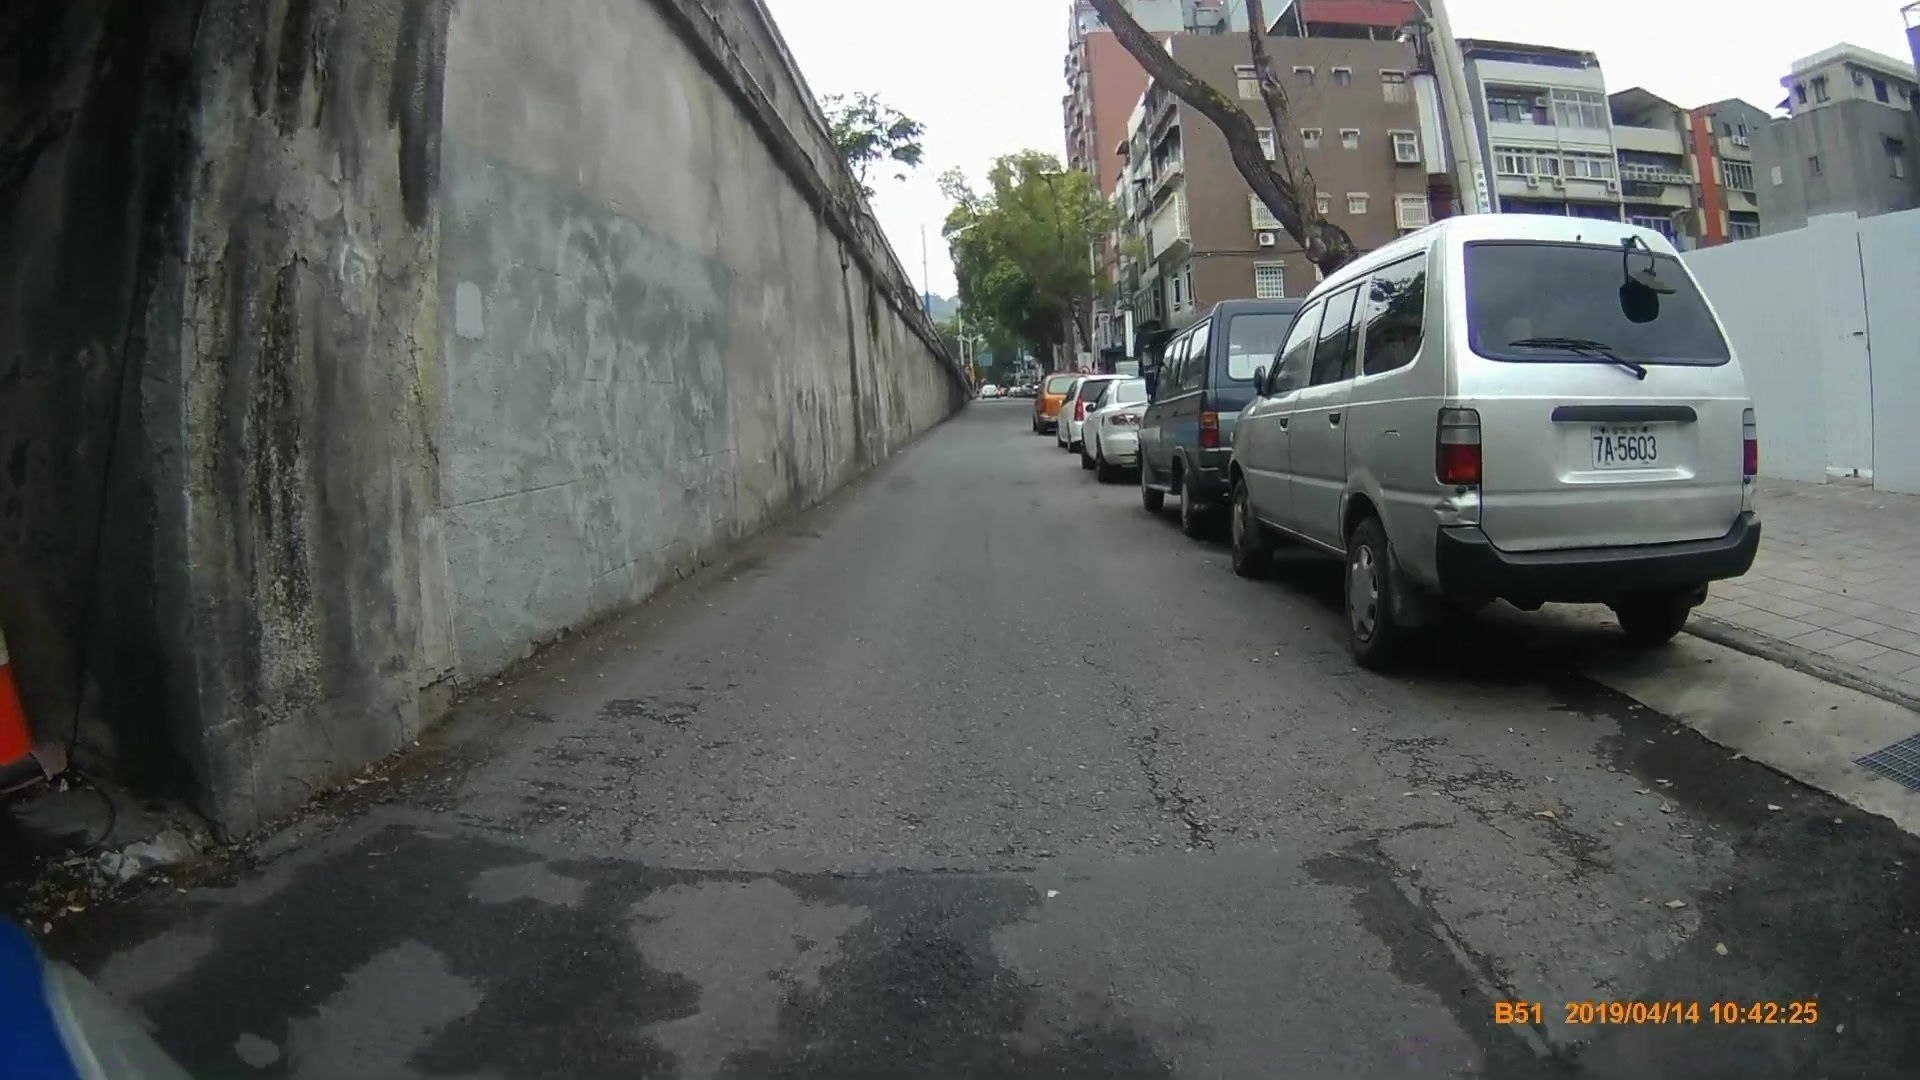License_plate: (1589, 425, 1665, 470)
